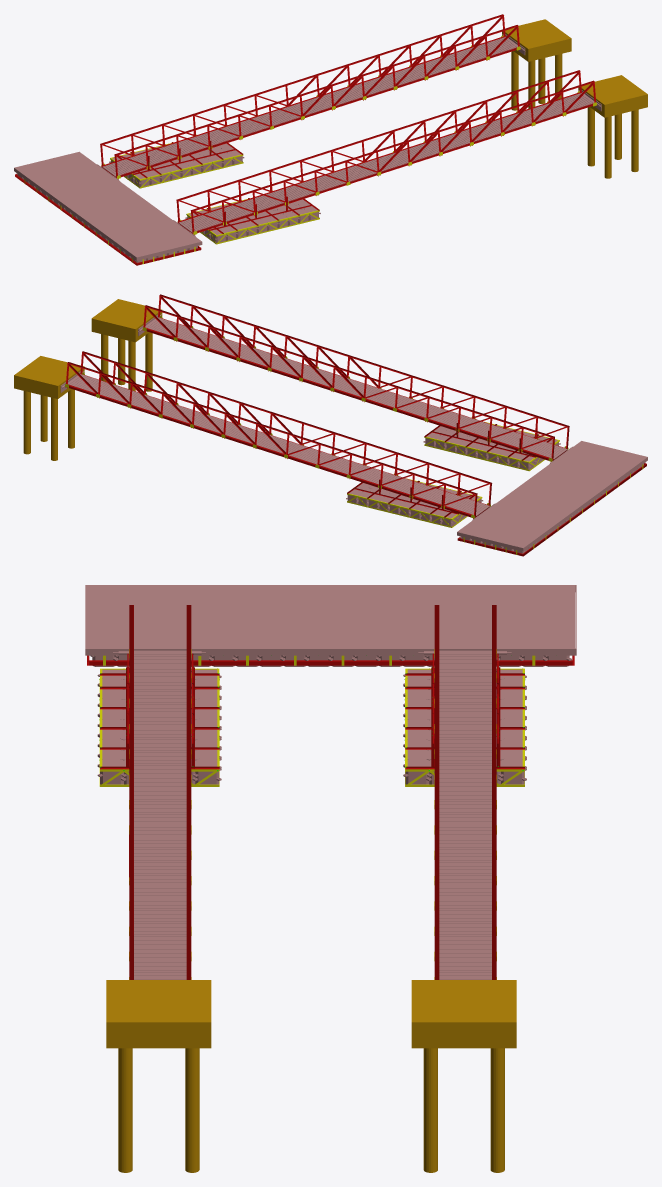
Rendered from pier_flutuante_-_3d.glb.
The picture shows the model from 3 angles, top to bottom: view 1: azimuth 30°, elevation 25°; view 2: azimuth 150°, elevation 25°; view 3: azimuth 270°, elevation 25°; orthographic projection. The views are drawn at different scales.
Visible parts, largest first — view 1: A-GENM, S-BEAM, S-FNDN, S-FSTN; view 2: A-GENM, S-BEAM, S-FNDN, S-FSTN; view 3: A-GENM, S-FNDN, S-BEAM, S-FSTN.
Boxes of the visible parts, bbox=[...] form: A-GENM: bbox=[14, 34, 601, 262]; S-BEAM: bbox=[15, 14, 596, 265]; S-FNDN: bbox=[502, 19, 647, 178]; S-FSTN: bbox=[24, 35, 596, 264]; A-GENM: bbox=[60, 314, 647, 553]; S-BEAM: bbox=[65, 294, 646, 556]; S-FNDN: bbox=[14, 299, 162, 460]; S-FSTN: bbox=[65, 316, 643, 554]; A-GENM: bbox=[85, 585, 576, 979]; S-FNDN: bbox=[106, 980, 516, 1172]; S-BEAM: bbox=[87, 605, 574, 979]; S-FSTN: bbox=[99, 649, 535, 979].
Bounding box in the file's own units: 24998 × 4538 × 10291.
